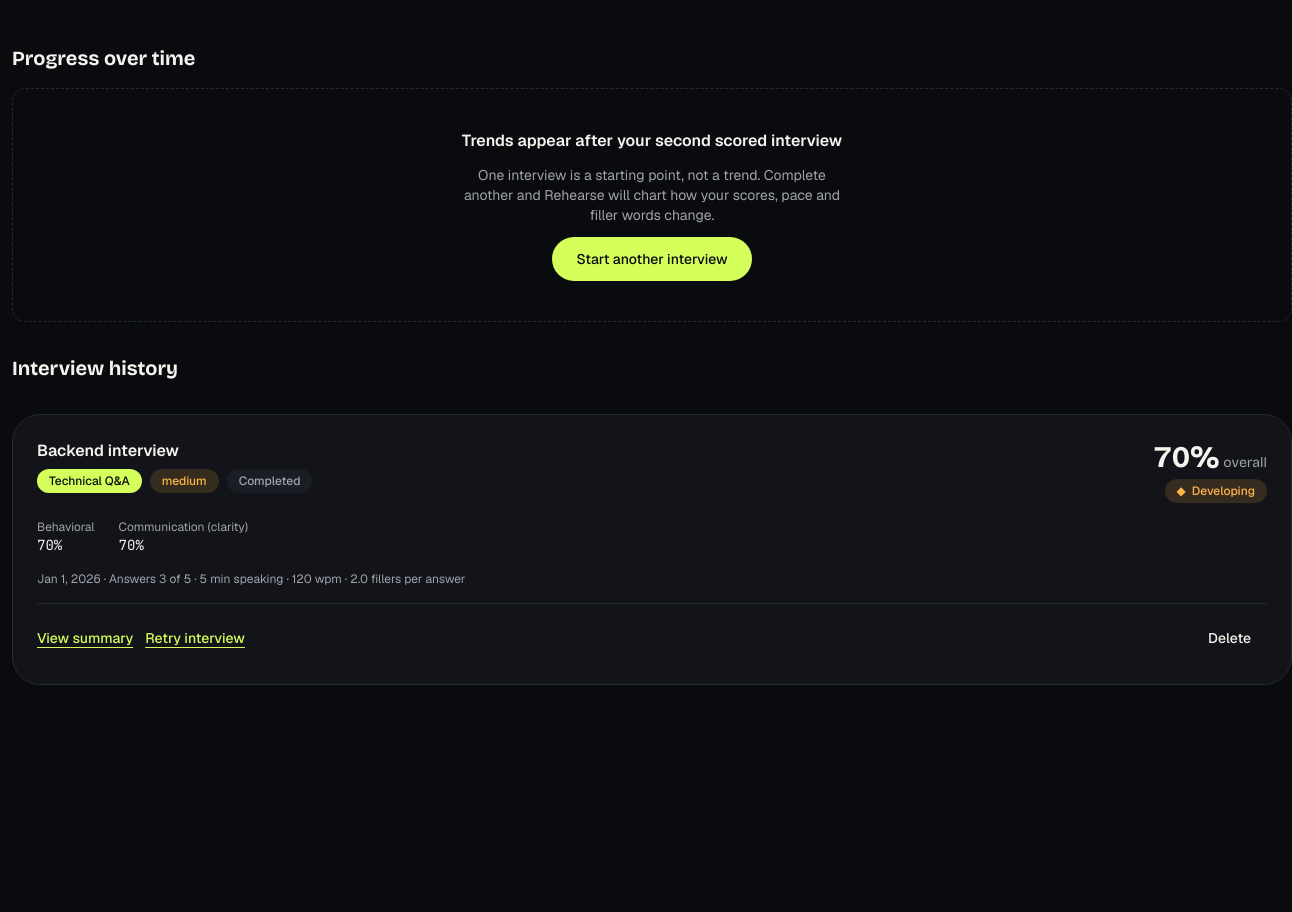
Scenario: ProgressView › removes the session card once the delete succeeds
Click the button "Delete": (1229, 638) [1192,620,1267,656]
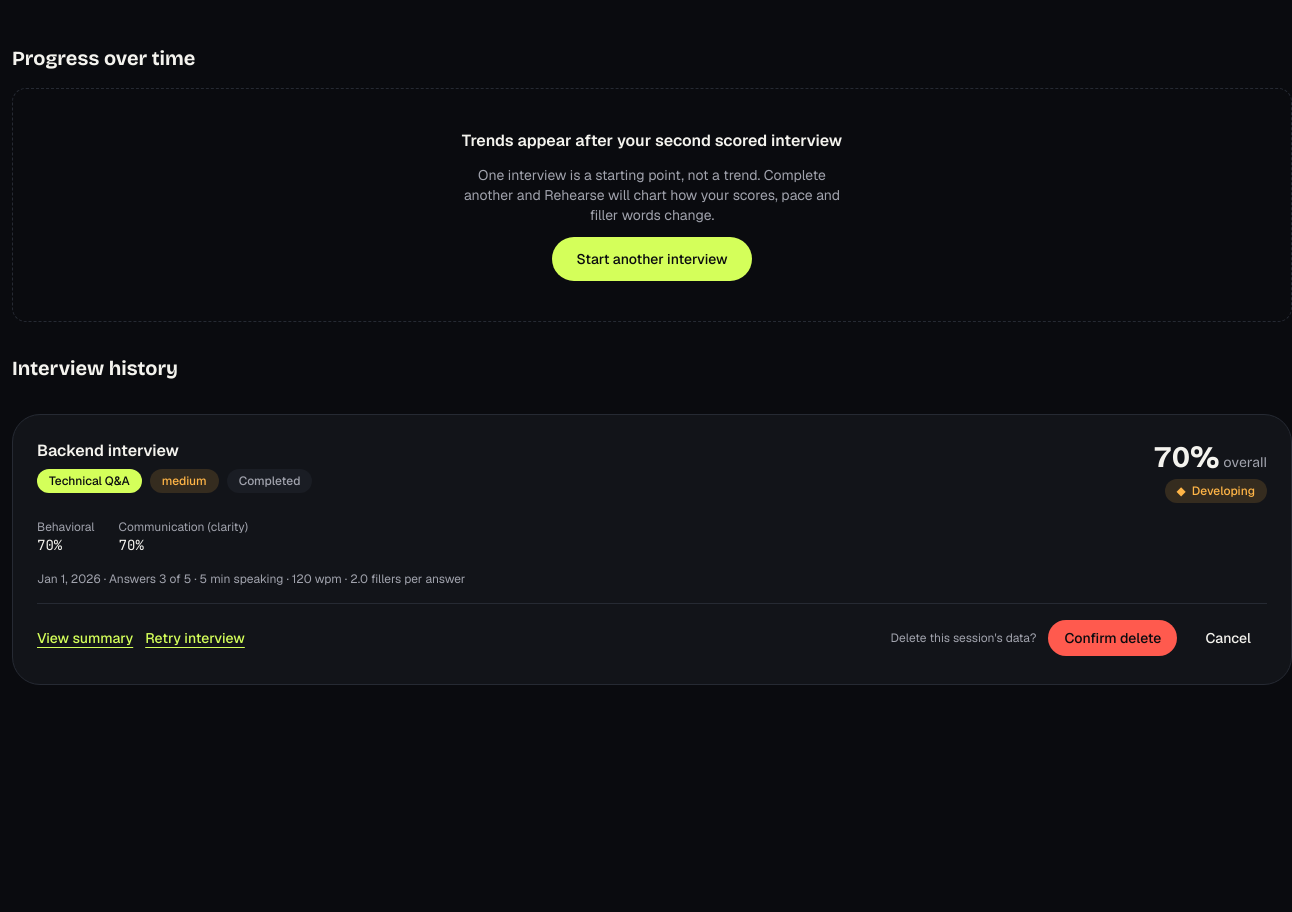
Click the button "Confirm delete": (1113, 638) [1048,620,1177,656]
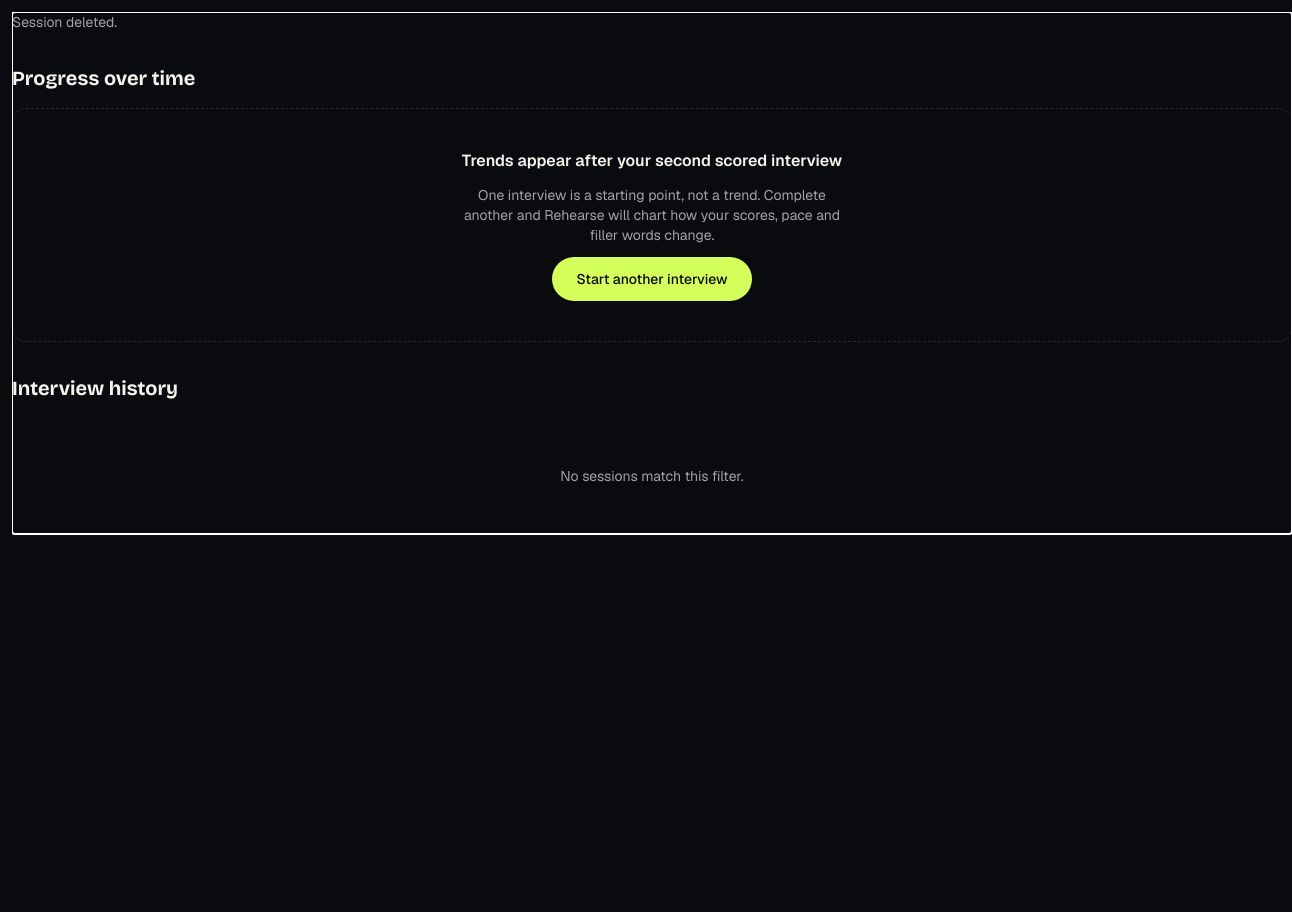
Expected: the text "No sessions match this filter." is shown, [560,467,744,485]
